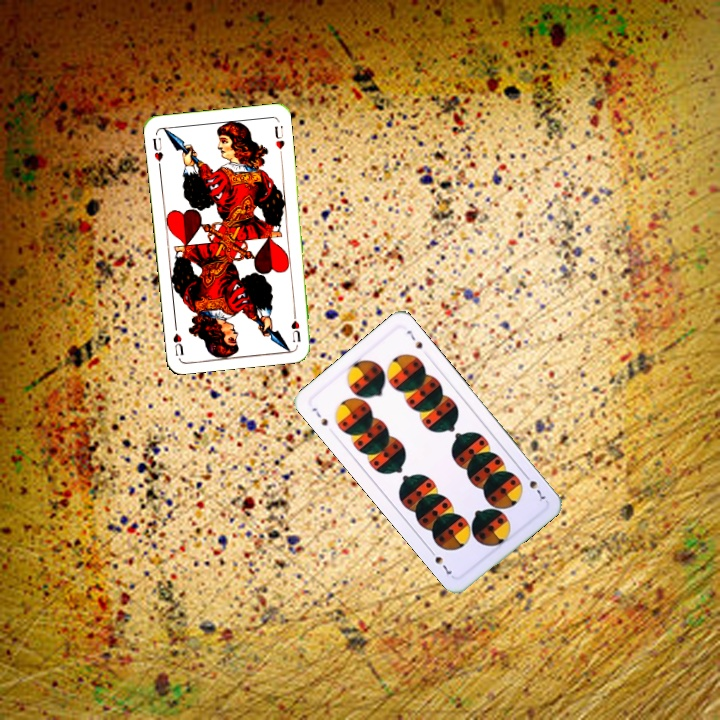HU: (149, 133, 166, 171), (287, 306, 303, 345)
S7: (519, 469, 548, 504), (308, 403, 330, 428)
